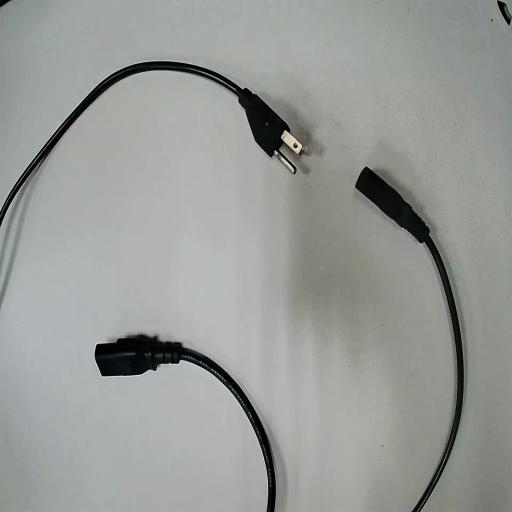wire: (0, 62, 289, 221), (356, 168, 463, 511), (96, 335, 275, 511)
